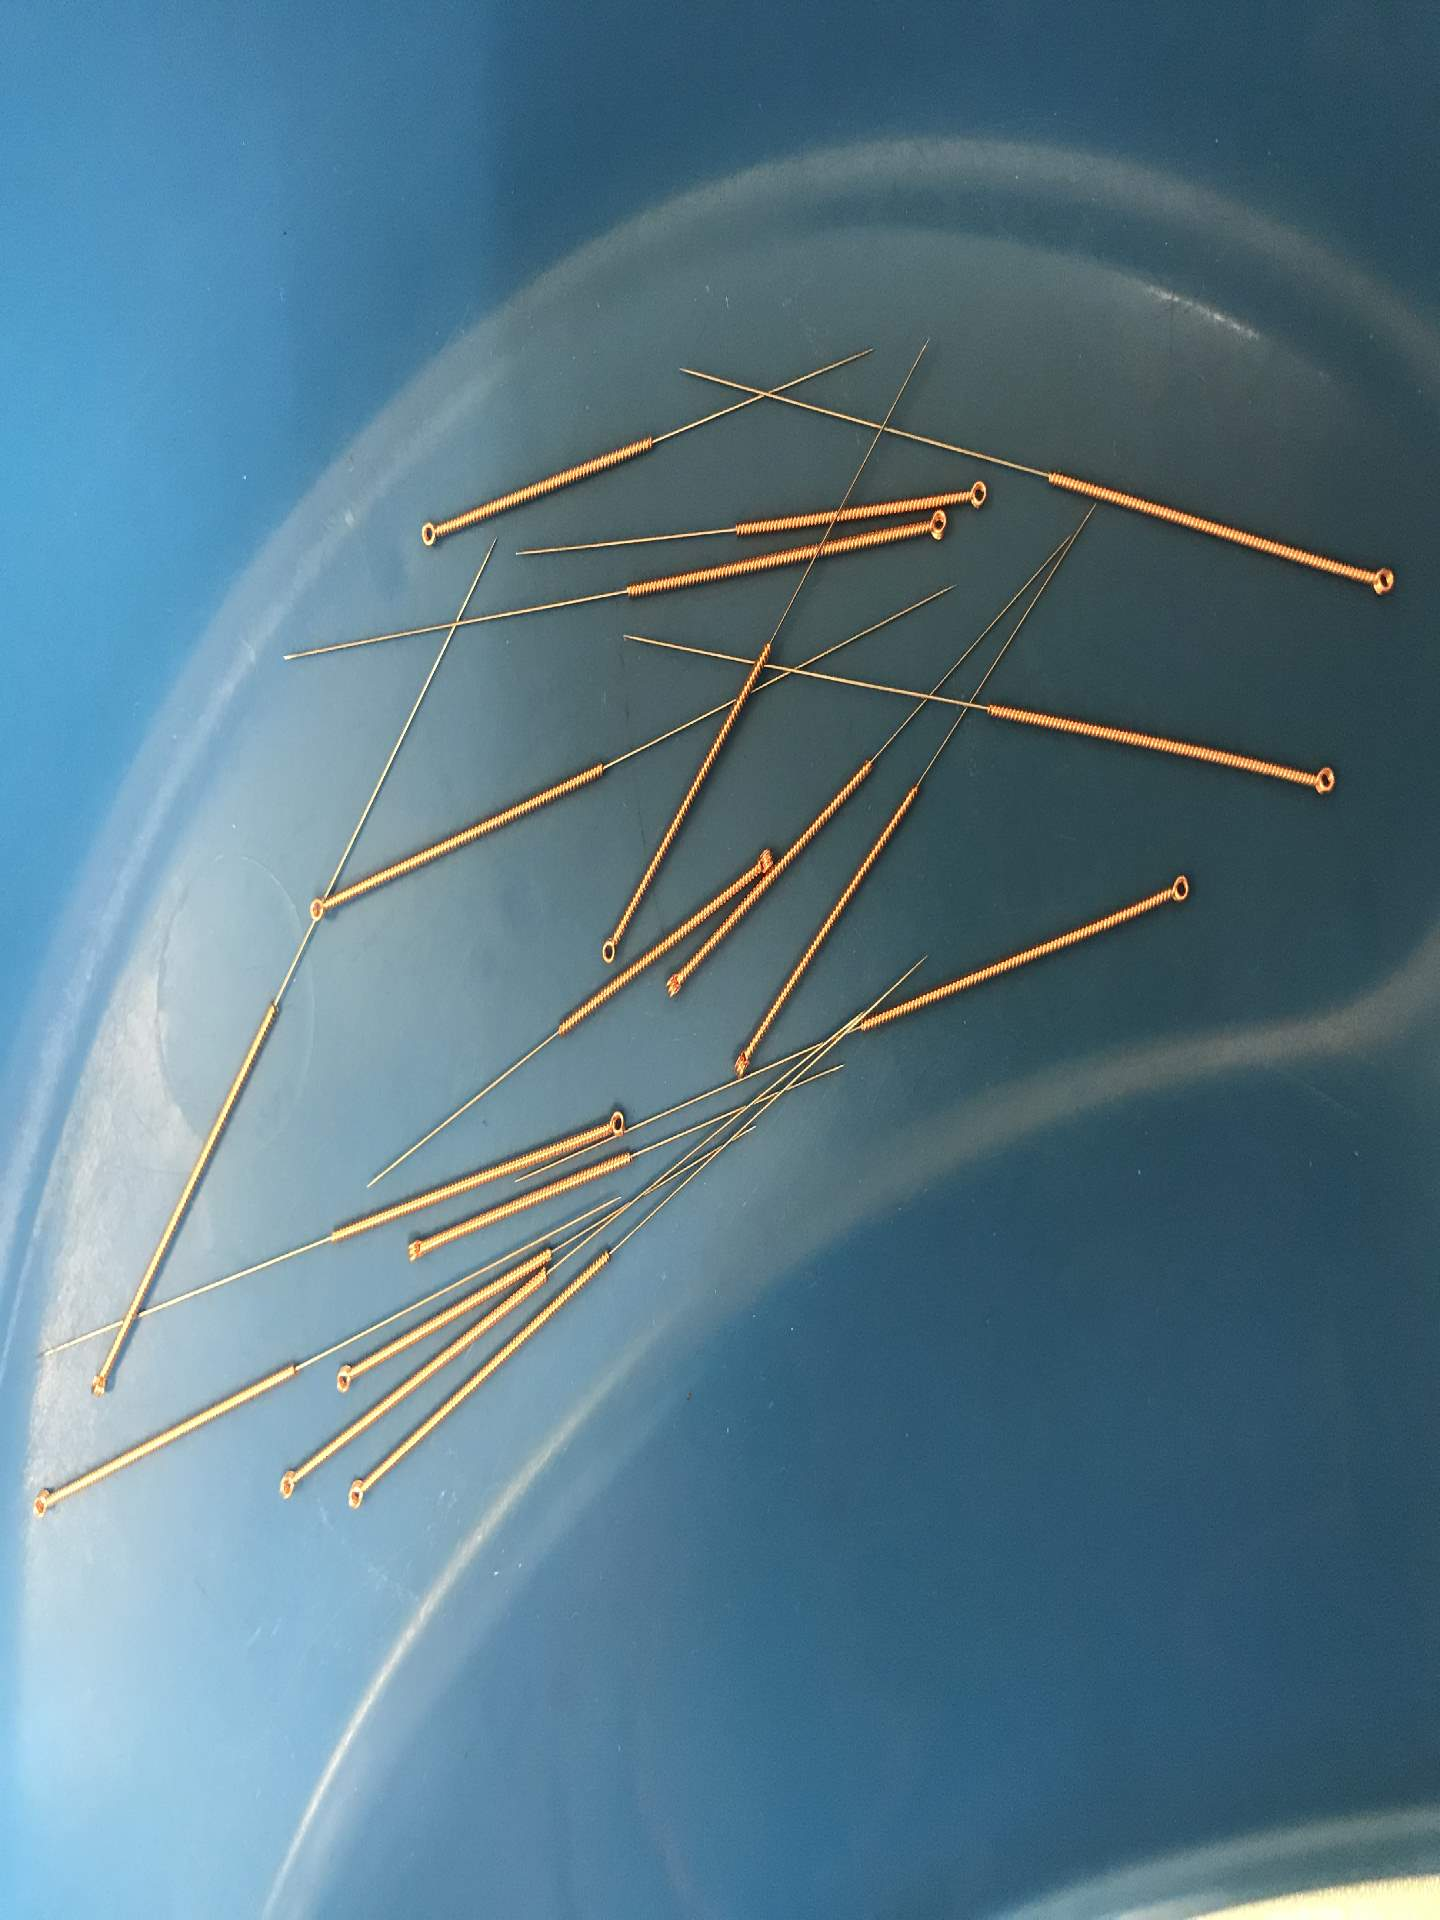needle: (1301, 757, 1342, 807), (1361, 558, 1401, 603), (1160, 865, 1196, 912), (337, 1473, 377, 1515), (957, 473, 995, 516), (26, 1480, 61, 1525), (411, 513, 448, 555), (328, 1356, 363, 1398), (398, 1231, 433, 1271), (85, 1358, 115, 1404), (272, 1462, 306, 1504), (725, 1039, 756, 1082), (301, 890, 337, 928), (920, 506, 953, 547), (594, 928, 625, 971), (599, 1104, 632, 1141), (659, 965, 688, 1005), (747, 842, 777, 875)
